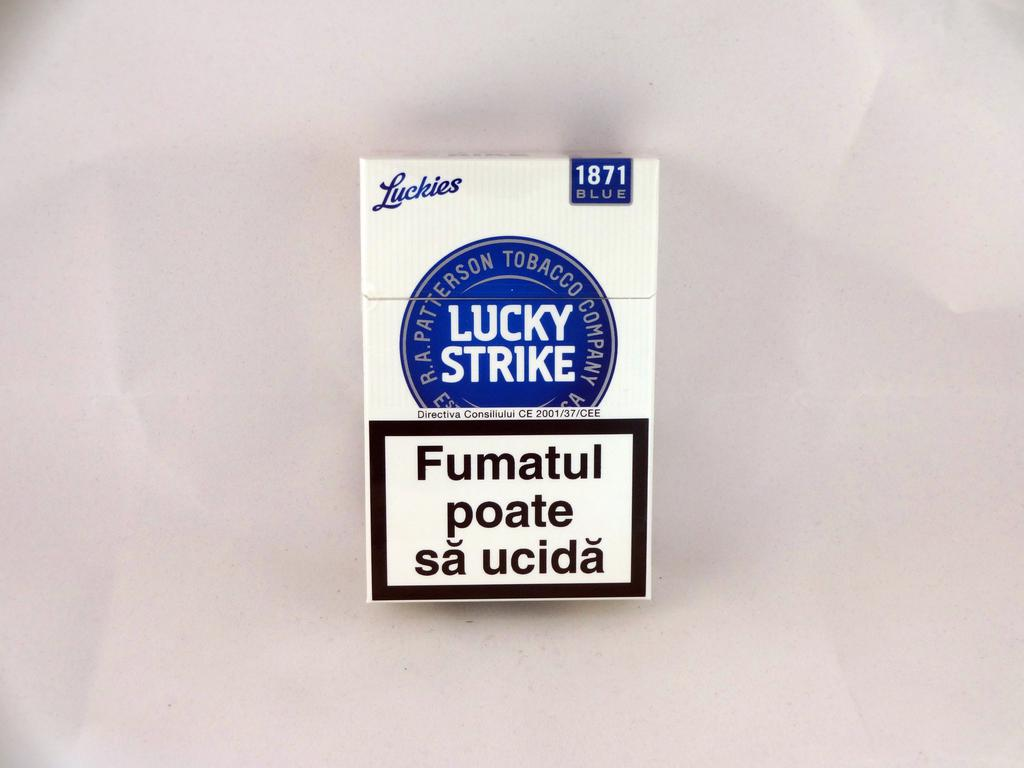lucky_strike_blue: (362, 161, 658, 604)
